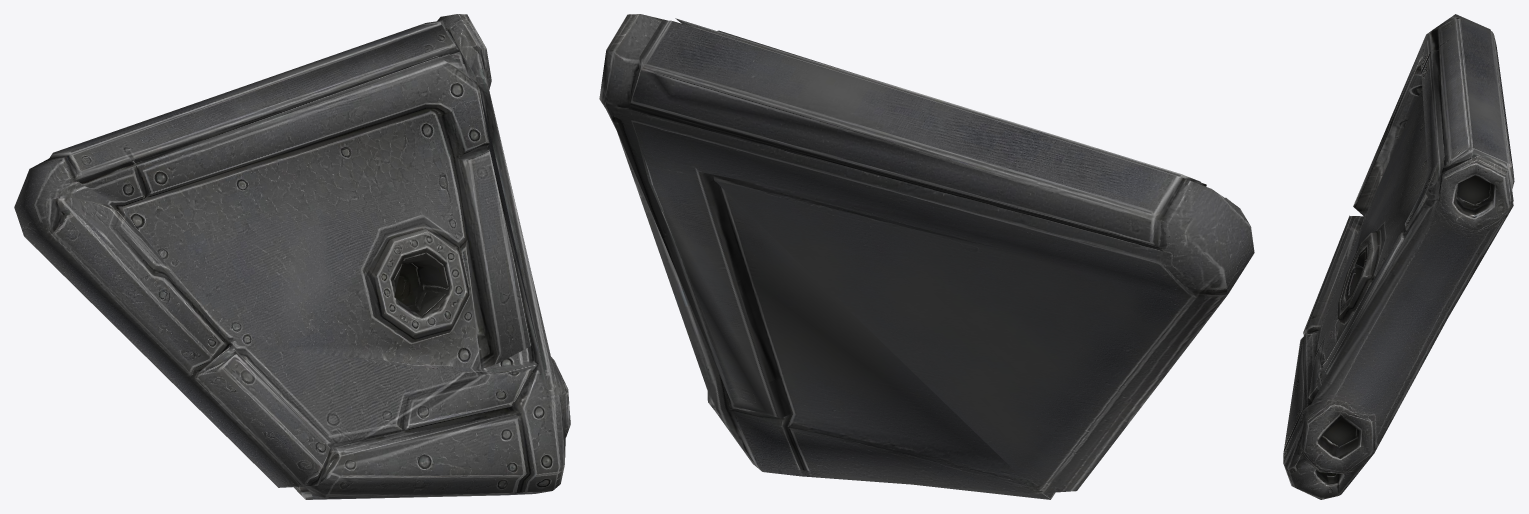
The model's file is cold-iron-v2-panel-b-wedge.glb.
3 views of the same model, side by side, from view 1: azimuth 30°, elevation 25°; view 2: azimuth 150°, elevation 25°; view 3: azimuth 270°, elevation 25° (orthographic). The views are drawn at different scales.
Parts seen in each view (by area): view 1: tripo_node_d23625af-f024-4446-809d-249878575b2a; view 2: tripo_node_d23625af-f024-4446-809d-249878575b2a; view 3: tripo_node_d23625af-f024-4446-809d-249878575b2a.
Boxes of the visible parts, x1,y1,x2,y2 form: tripo_node_d23625af-f024-4446-809d-249878575b2a: [14, 14, 570, 499]; tripo_node_d23625af-f024-4446-809d-249878575b2a: [599, 14, 1254, 499]; tripo_node_d23625af-f024-4446-809d-249878575b2a: [1283, 14, 1514, 499].
Bounding box in the file's own units: 0.998 × 0.8457 × 0.5059.
Materials: 1 (1 with a texture image).
